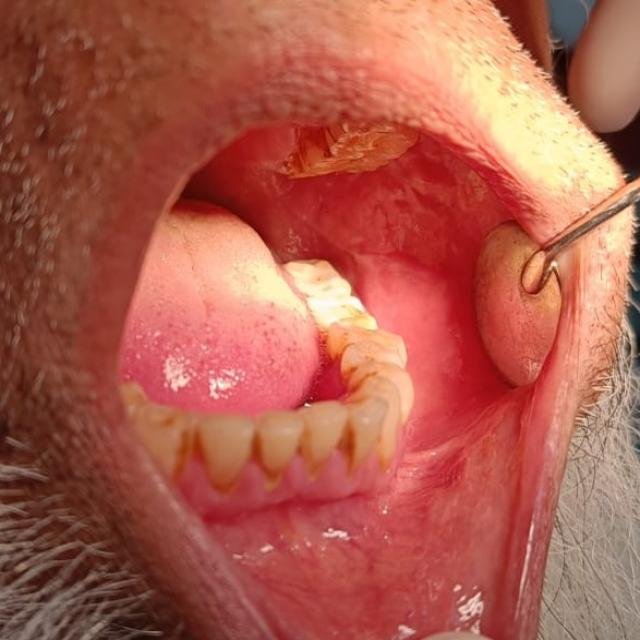No Cancer: (326, 198, 474, 470)
